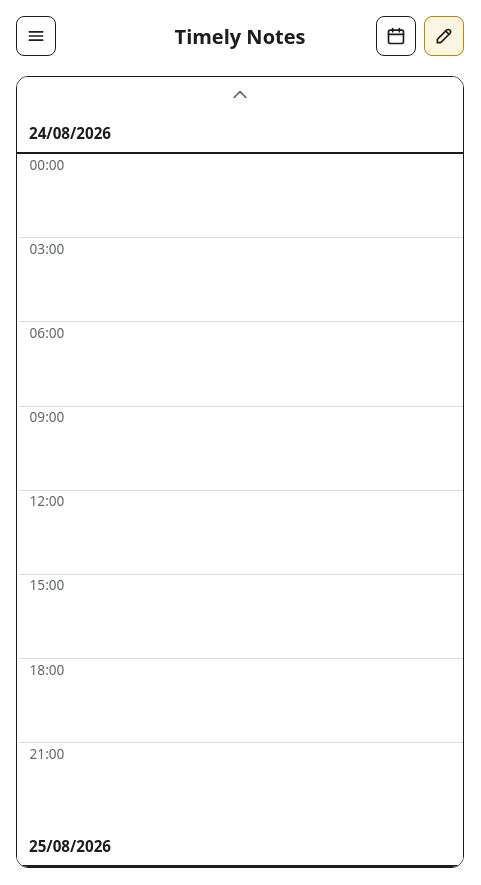
Test: App — the window and the selection › restores both the window and the clock-following selection from Go to today
Click the option named "06:00 – 09:00".
click(47, 333)  # box [17,321,463,406]
(page scrolled)
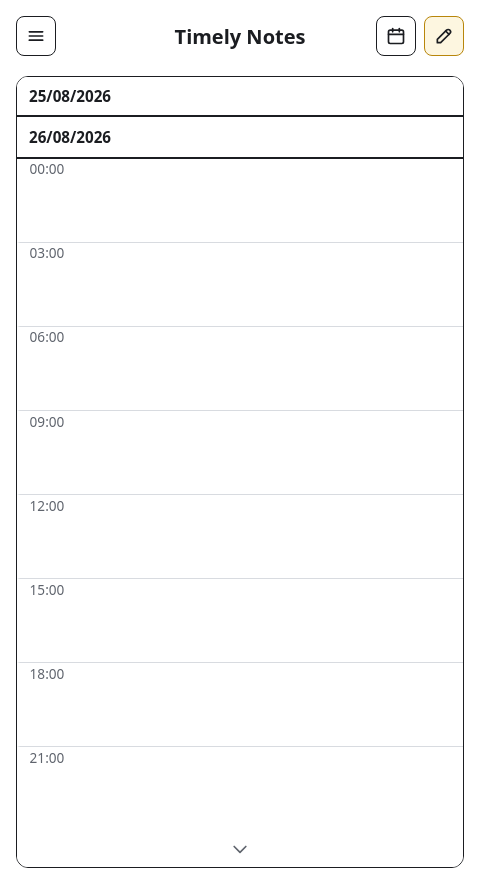
Click the button named "Later days".
click(240, 849)  # box [17,831,463,867]
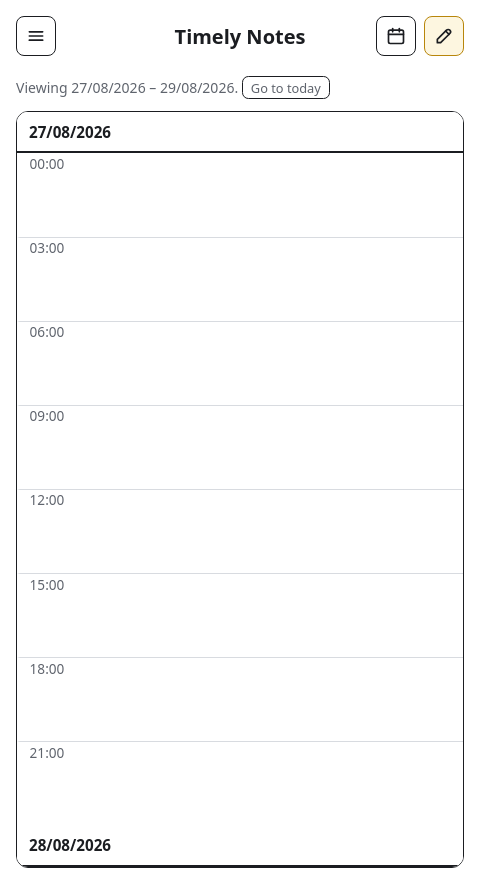
Click the button "Go to today".
click(286, 88)  # box [242,76,330,99]
(page scrolled)
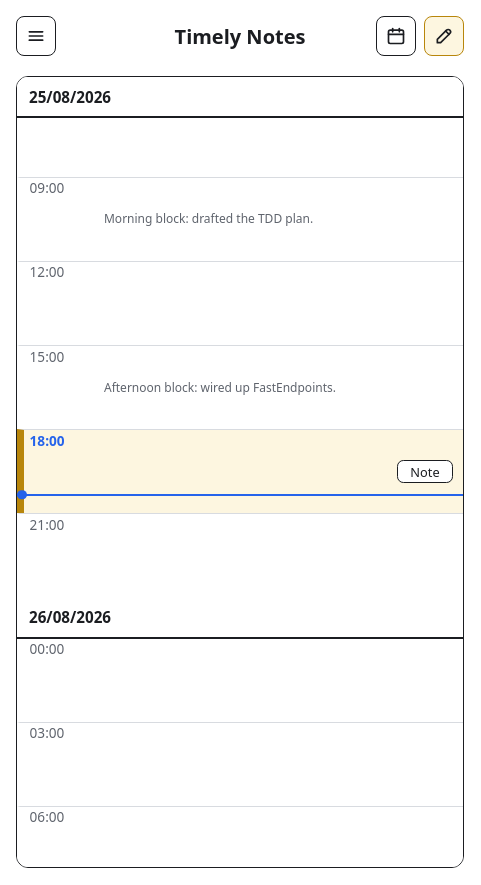
Now the text "Viewing " is gone
